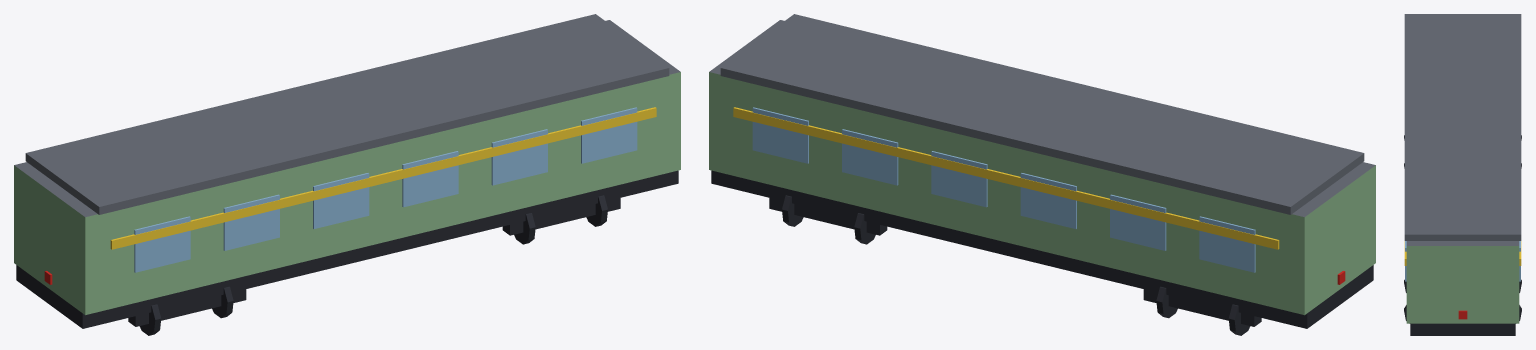
Rendered from tren_carro.obj.
The picture shows the model from 3 angles, left to right: view 1: azimuth 30°, elevation 25°; view 2: azimuth 150°, elevation 25°; view 3: azimuth 270°, elevation 25°; orthographic projection. The views are drawn at different scales.
Parts seen in each view (by area): view 1: tren_carro; view 2: tren_carro; view 3: tren_carro.
Part boxes in pixels (left/top/right/bottom): tren_carro: left=14, top=14, right=680, bottom=335; tren_carro: left=709, top=14, right=1375, bottom=335; tren_carro: left=1404, top=14, right=1521, bottom=335.
Size of the model in its own units: 14.1 by 3.3 by 3.03.
